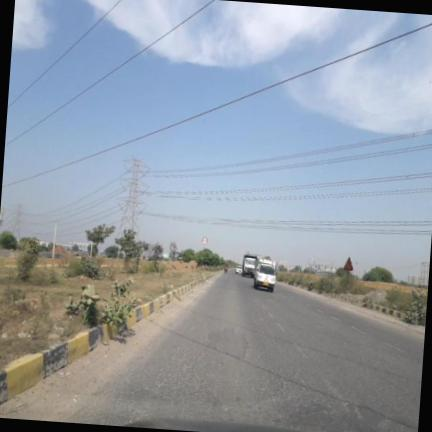Road: (0, 272, 423, 431)
